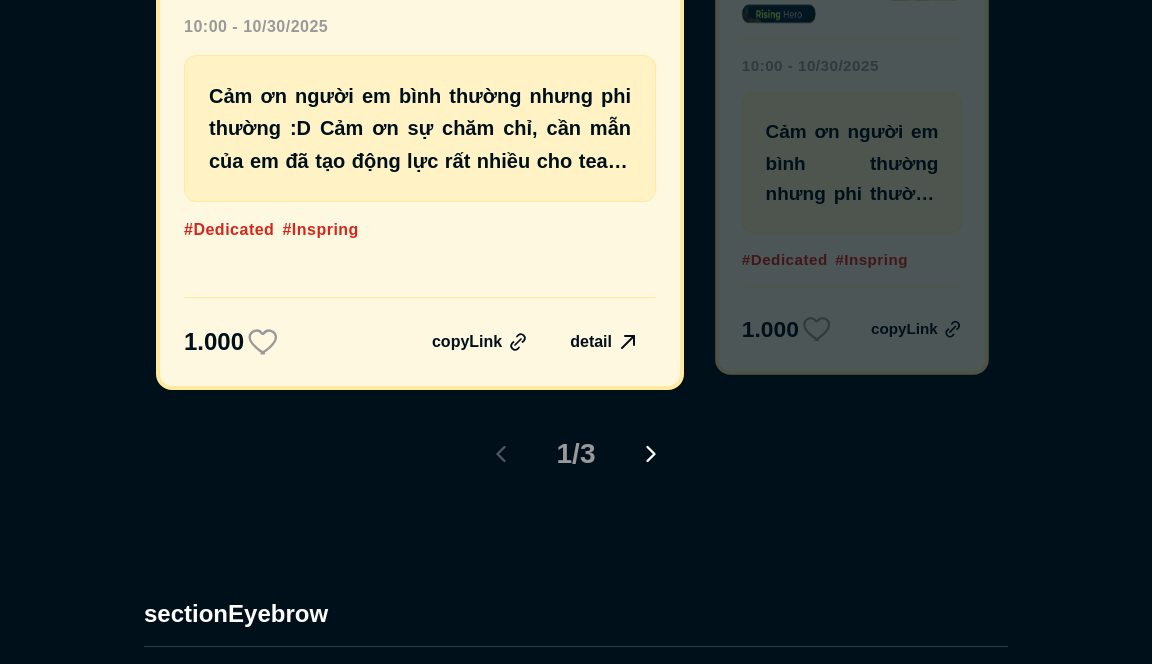
Test case: KudosBoardContainer › like toggle › reverts the optimistic update and shows a toast on self-like failure
The width and height of the screenshot is (1152, 664).
(page scrolled)
Step 1. Click the button "1.000" in the row of "detail" → (232, 342), box [184,326,280,358]
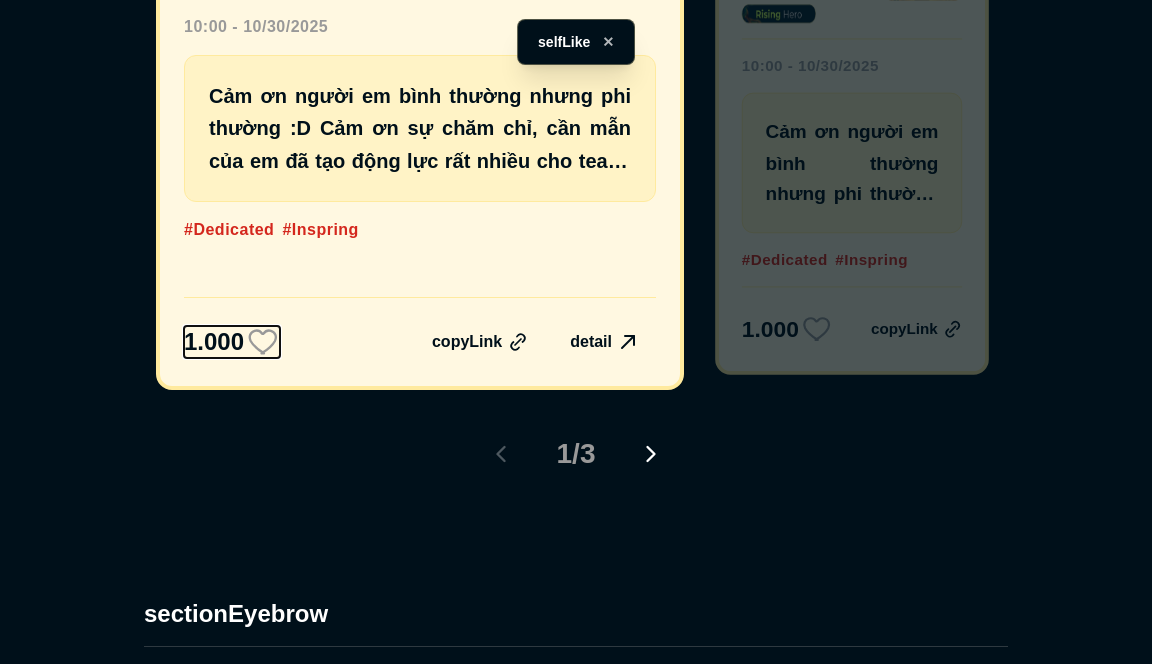
Check: the message shows "selfLike", box [538,34,590,50]
